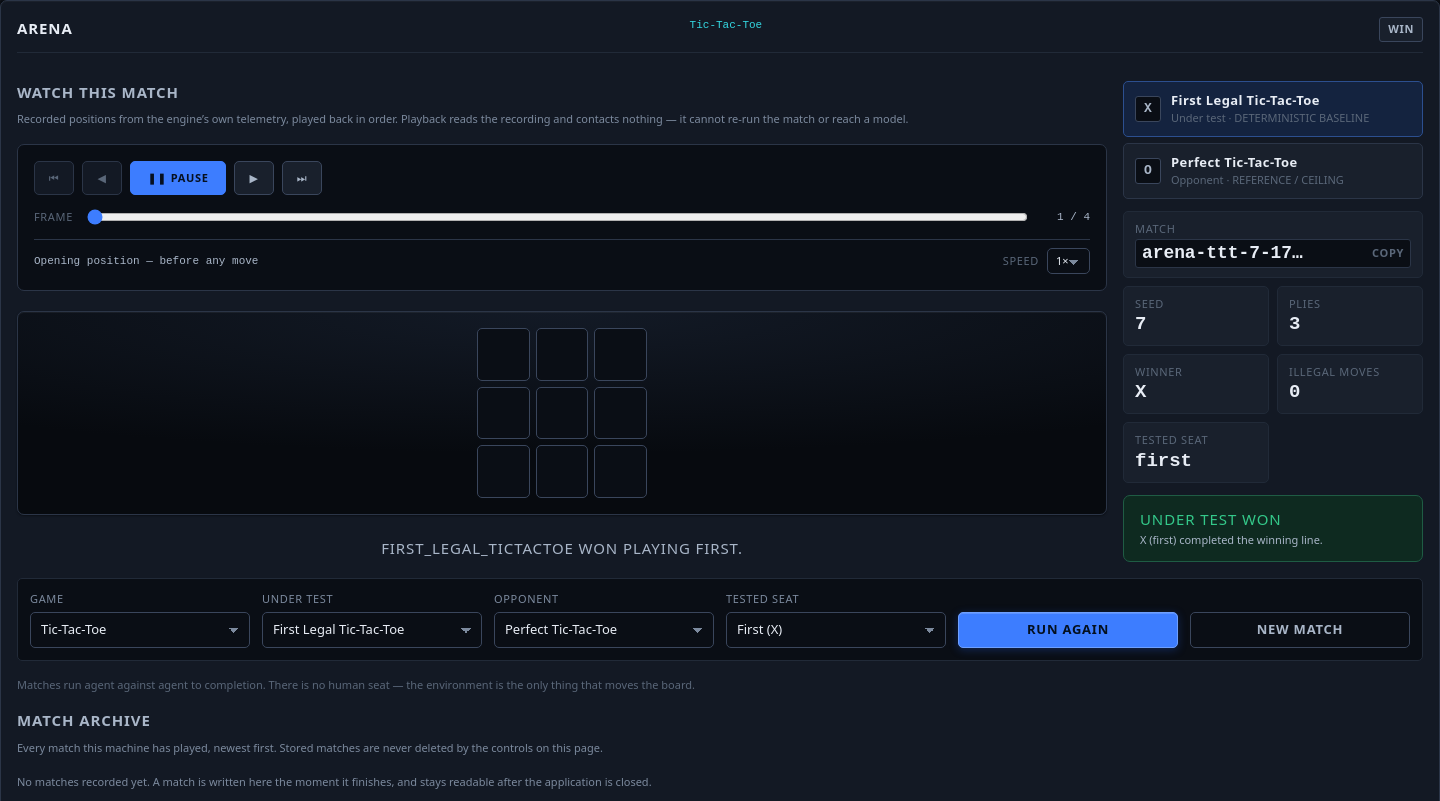
Test case: ArenaPanel — playback controls › names the move currently on screen
This screenshot has width=1440, height=801.
Click the button named "Go to the last frame".
click(302, 178)  # box [282, 161, 322, 195]
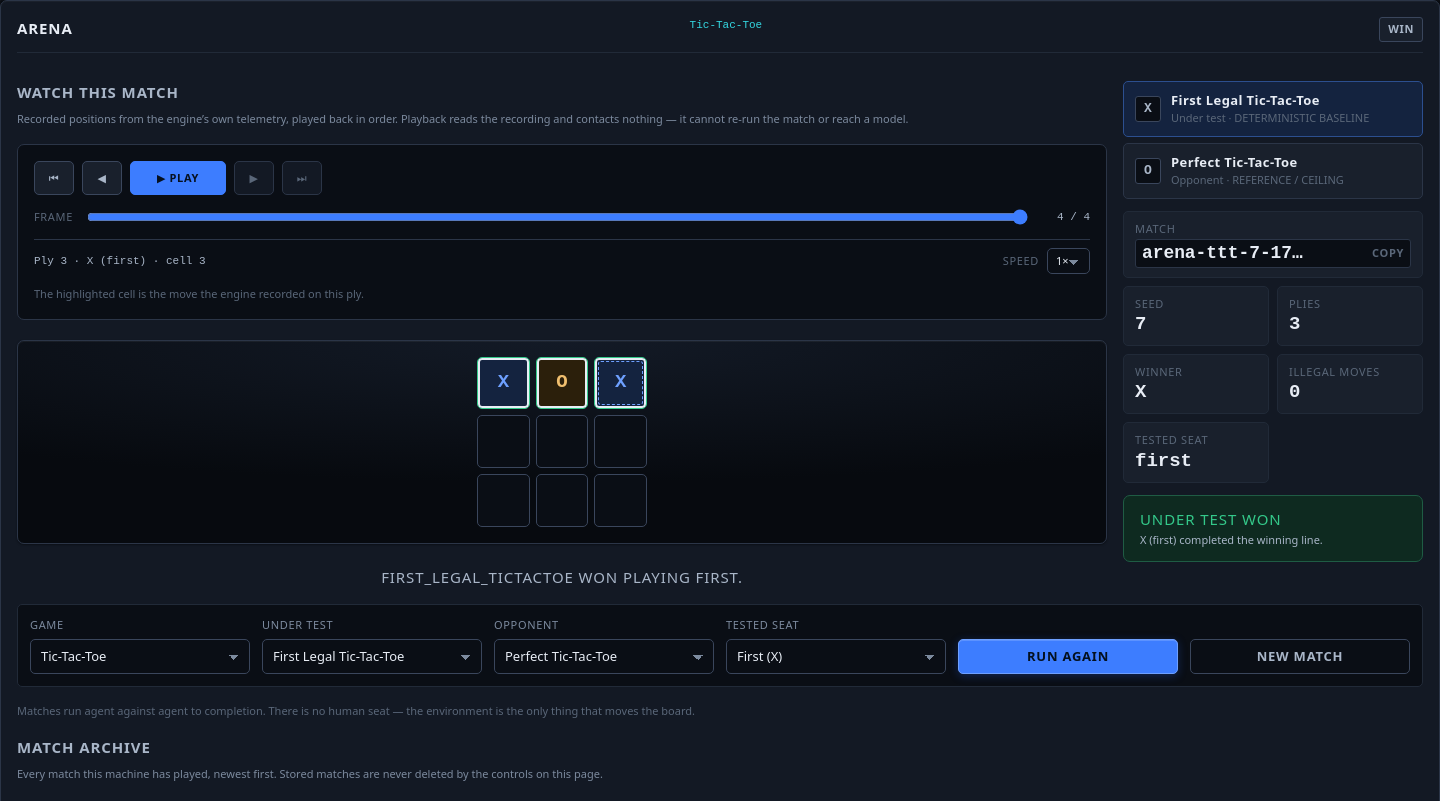
Check: the text "Ply 3 · X (first) · cell 3" is shown, box [34, 253, 206, 269]
